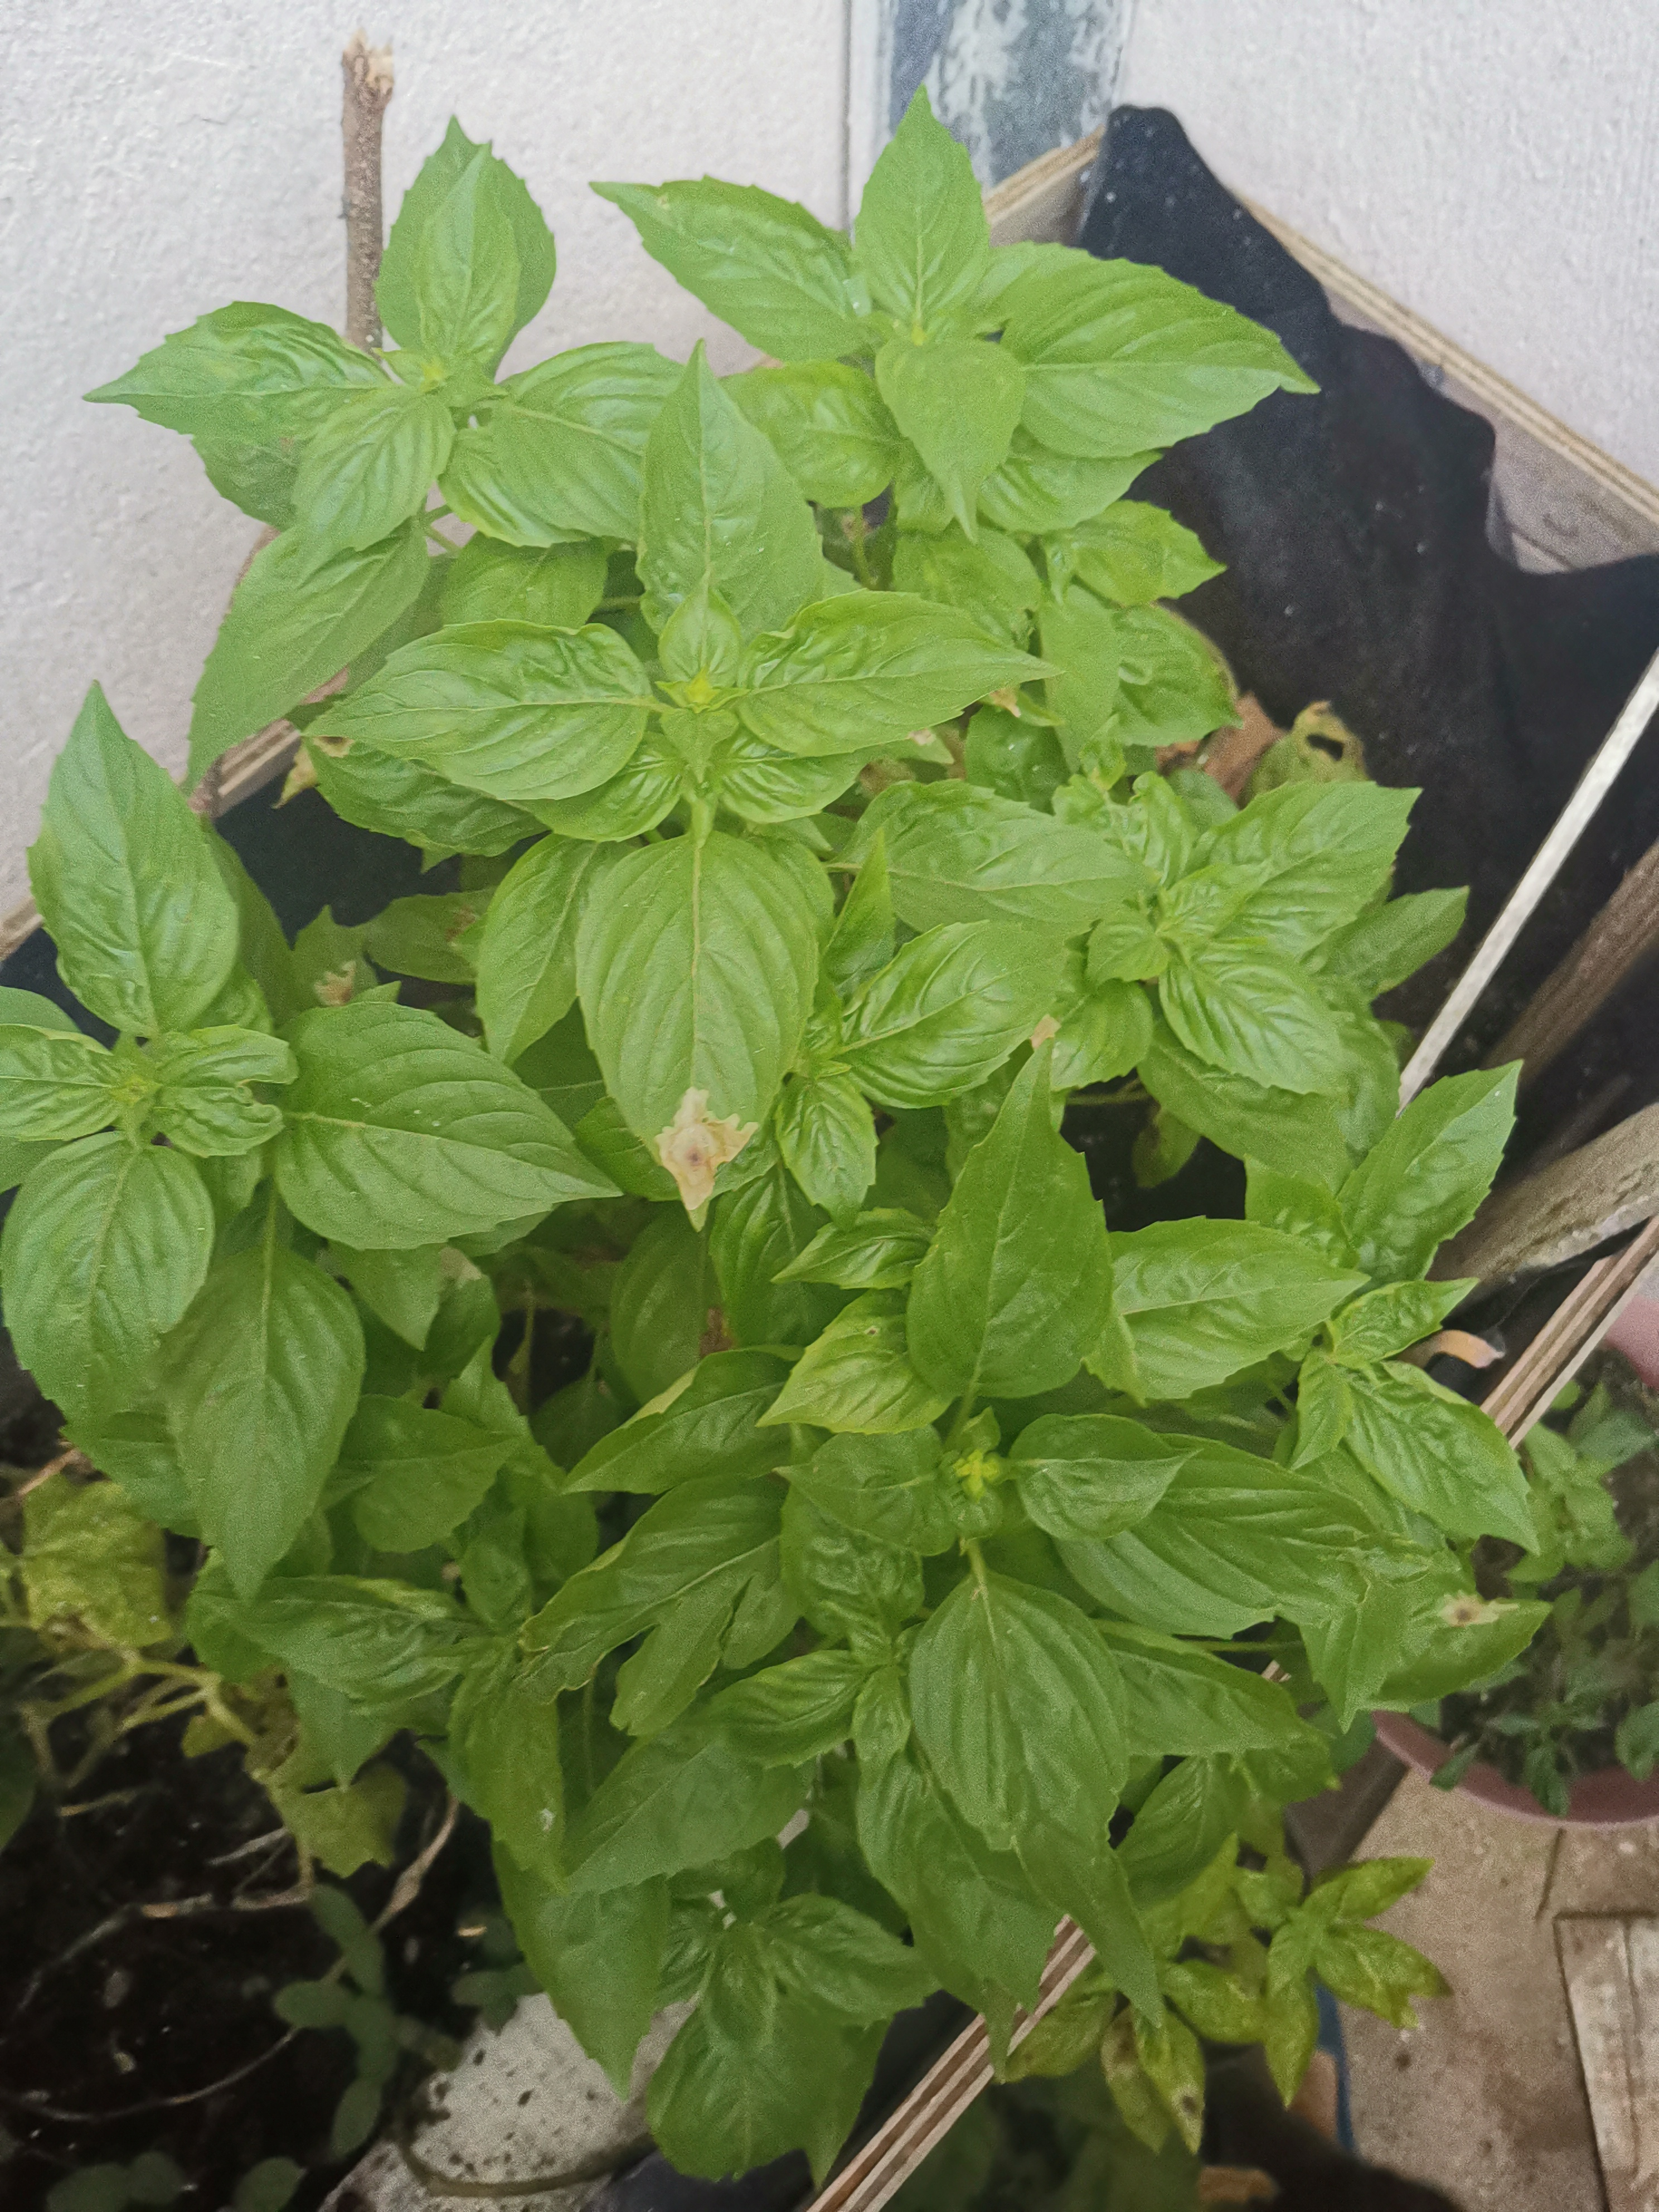Basil_cercospora_leaf_spot: (582, 808, 819, 1191)
Basil_healthy: (927, 1566, 1175, 2019), (0, 674, 258, 1026), (472, 343, 829, 590), (948, 240, 1321, 467), (288, 998, 612, 1252), (516, 1503, 835, 1749), (1079, 1425, 1431, 1630), (0, 1144, 221, 1465), (903, 1059, 1105, 1390), (181, 1284, 373, 1594), (1070, 1216, 1349, 1425), (845, 780, 1171, 958), (727, 582, 1051, 756), (629, 371, 838, 632), (315, 622, 669, 773), (622, 183, 884, 366), (1337, 1355, 1561, 1561), (1188, 777, 1452, 942), (565, 1716, 779, 1914), (368, 127, 525, 392), (1133, 920, 1349, 1101), (261, 383, 450, 580), (84, 308, 376, 434), (868, 317, 1039, 526), (584, 1348, 828, 1482), (1337, 1089, 1525, 1256), (237, 1568, 467, 1693), (1006, 1409, 1194, 1541), (849, 99, 974, 291), (767, 1900, 927, 2008)
